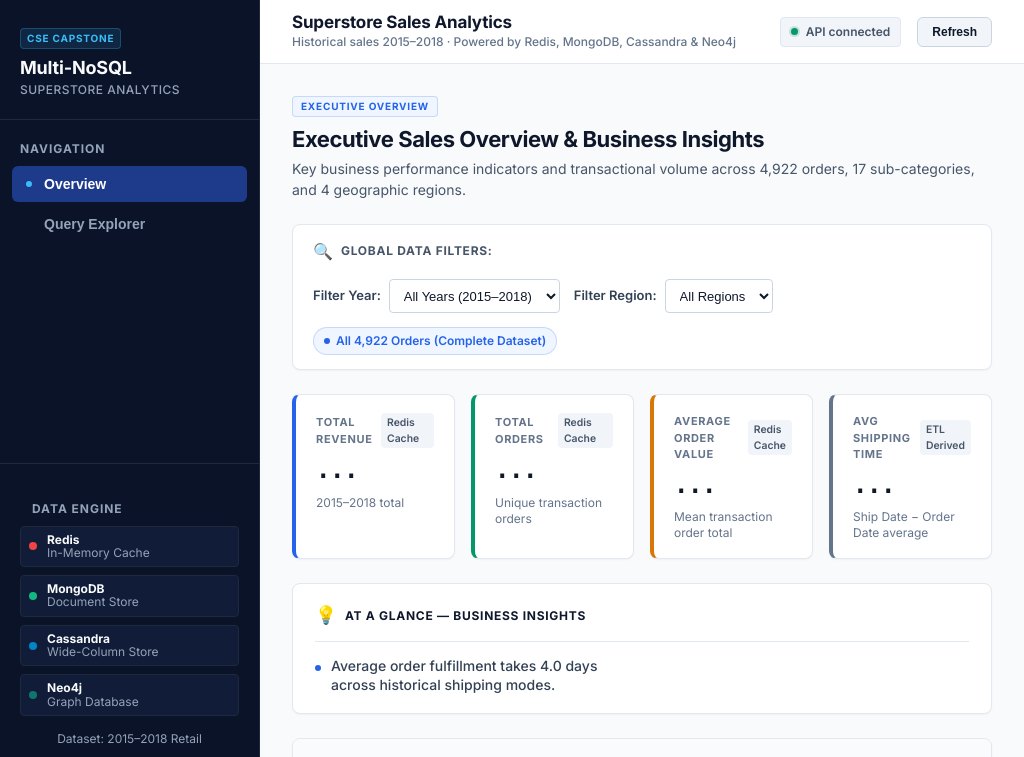
Test case: Superstore Sales Analytics Platform — React Frontend Test Suite › 10. Navigation between Overview and Query Explorer views functions correctly
Click the button "Query Explorer".
click(130, 224)  # box [12,206,247,242]
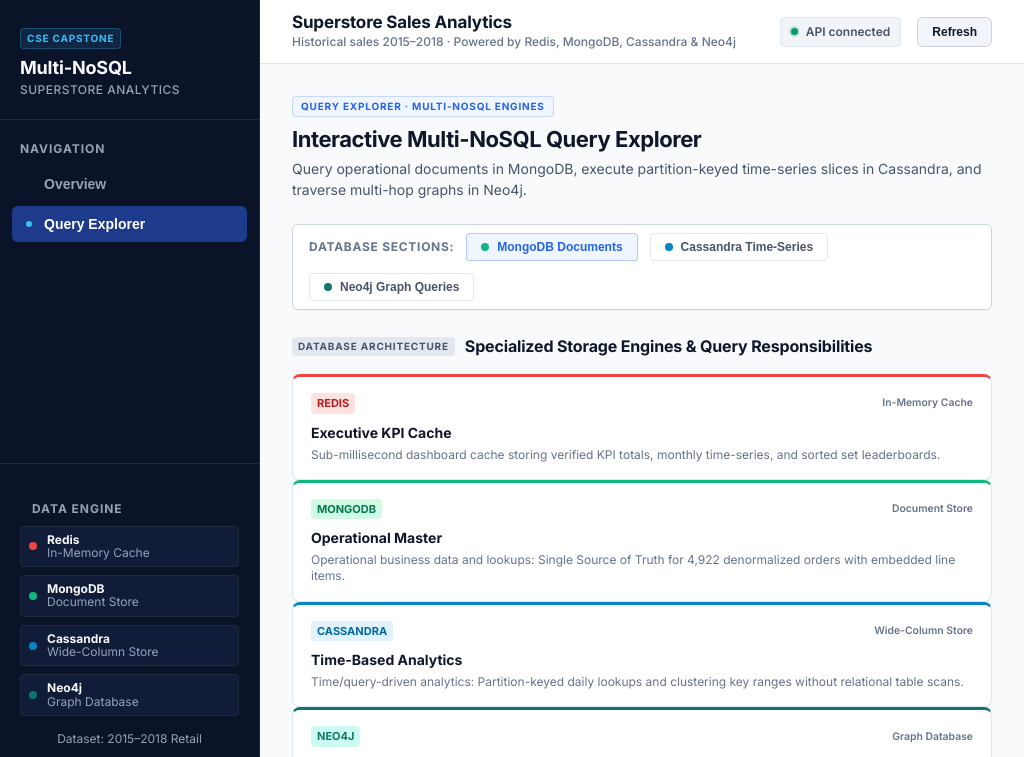
Expected: the heading "Interactive Multi-NoSQL Query Explorer" is shown, [292,126,701,152]
Expected: the text "Executive KPI Cache" is shown, [311,424,452,440]
Click the button "Overview".
click(130, 184)  # box [12,166,247,202]
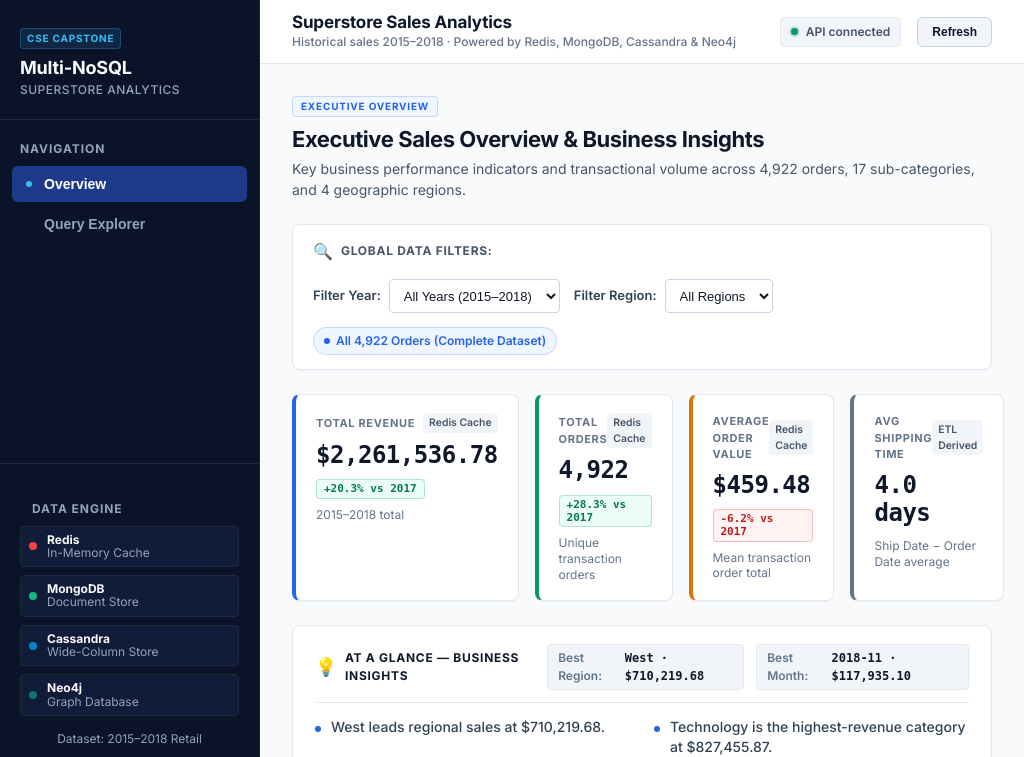
Expected: the heading "Executive Sales Overview & Business Insights" is shown, [292,126,764,152]
